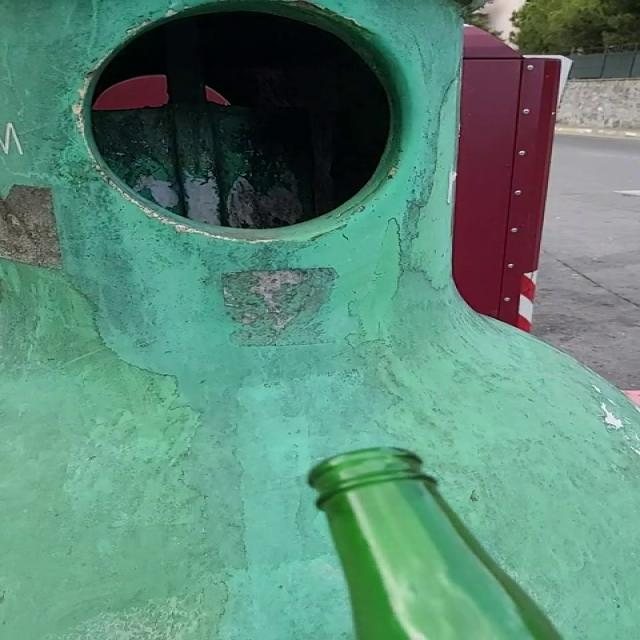glass: (309, 448, 563, 640)
